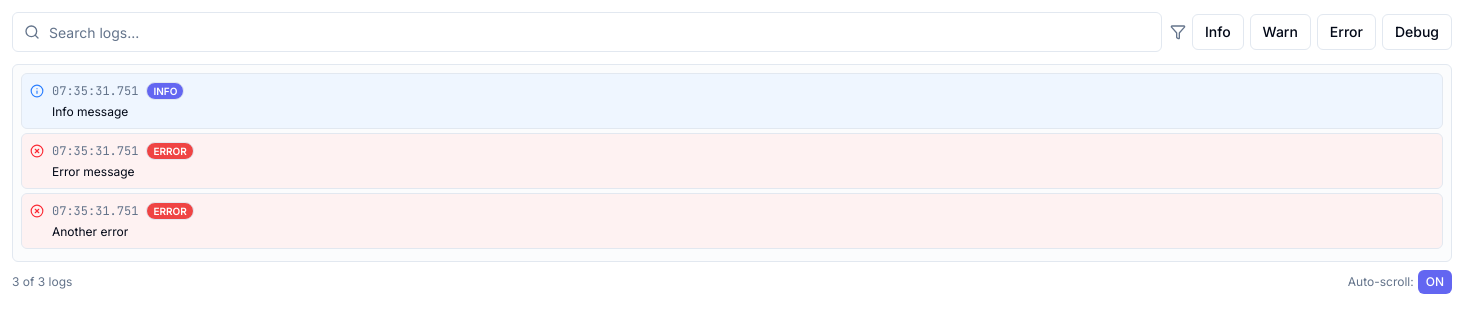
Test: LogViewer › should apply combined search and level filters
Apply level filter
Click the button "error": [1346, 32] box [1317,14,1376,50]
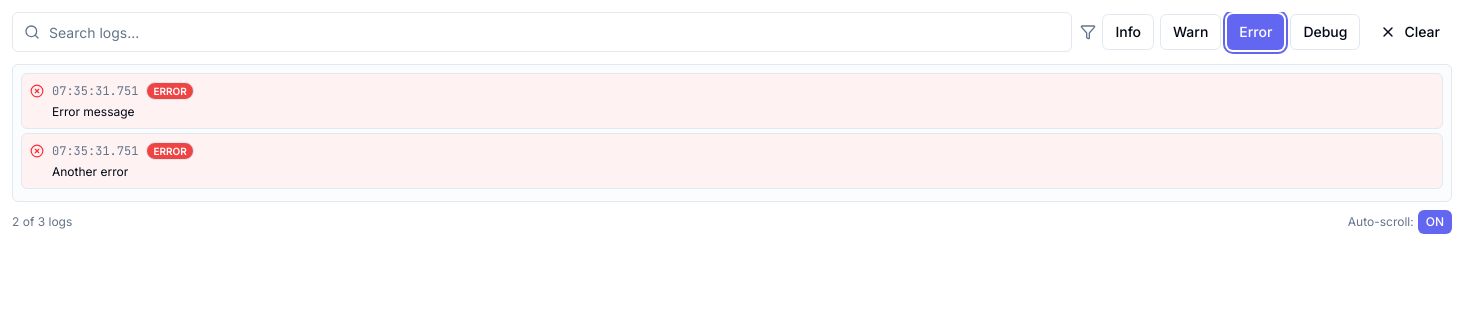
Apply search
In the field with placeholder "Search logs...": [542, 32] box [12,12,1072,52], type "message"
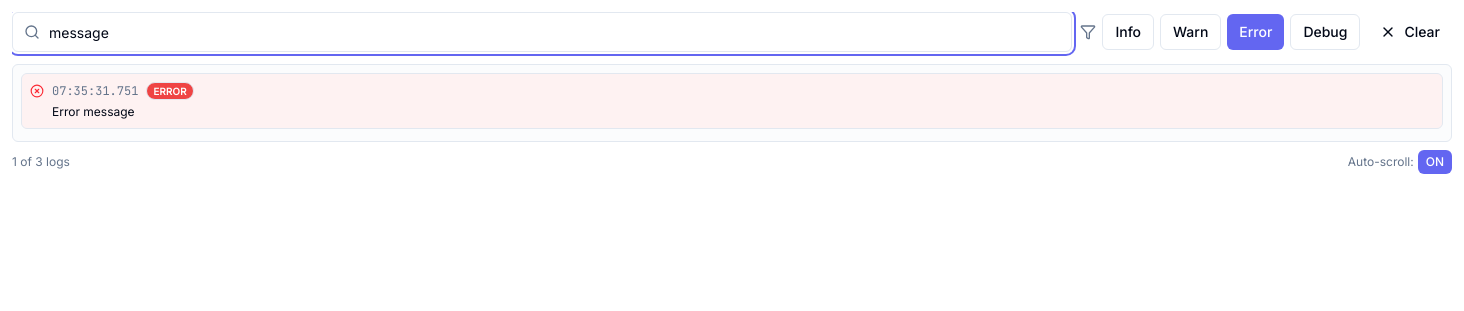
Expected: the text "Error message" is shown, [52,104,135,119]
Expected: the text "Another error" is gone
Expected: the text "1 of 3 logs" is shown, [12,154,70,170]
